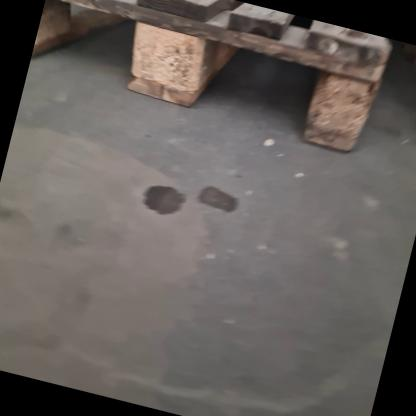BoxFace: (26, 0, 393, 156)
